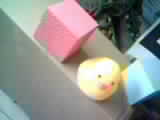duck: (66, 43, 134, 104)
